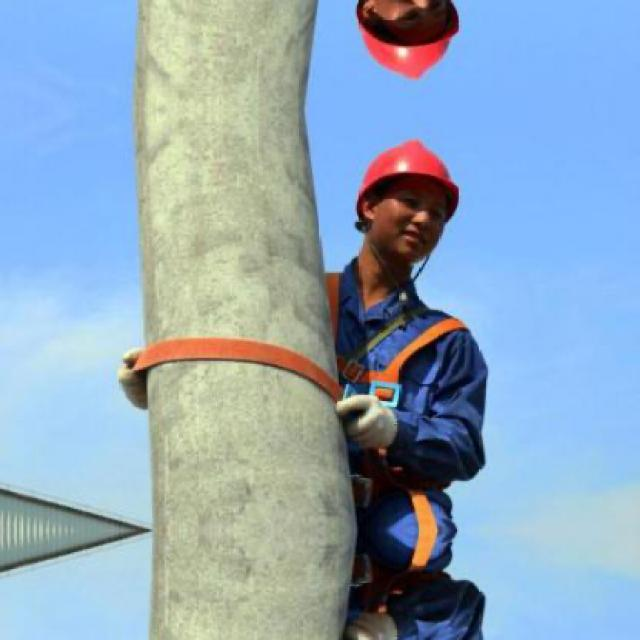helmet: (340, 120, 474, 287), (340, 0, 475, 100)
